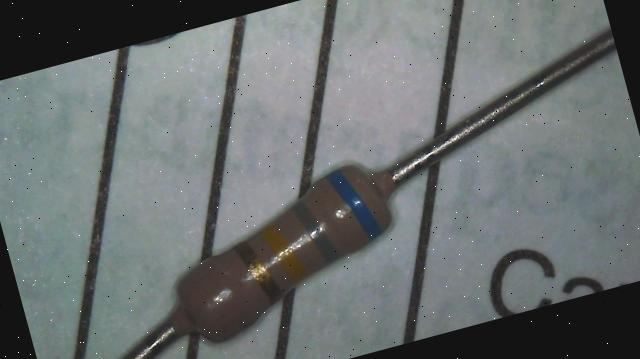blue: (325, 162, 383, 246)
gold: (232, 234, 282, 308)
grey: (290, 194, 340, 268)
resistor: (144, 130, 429, 359)
yellow: (258, 217, 306, 286)
